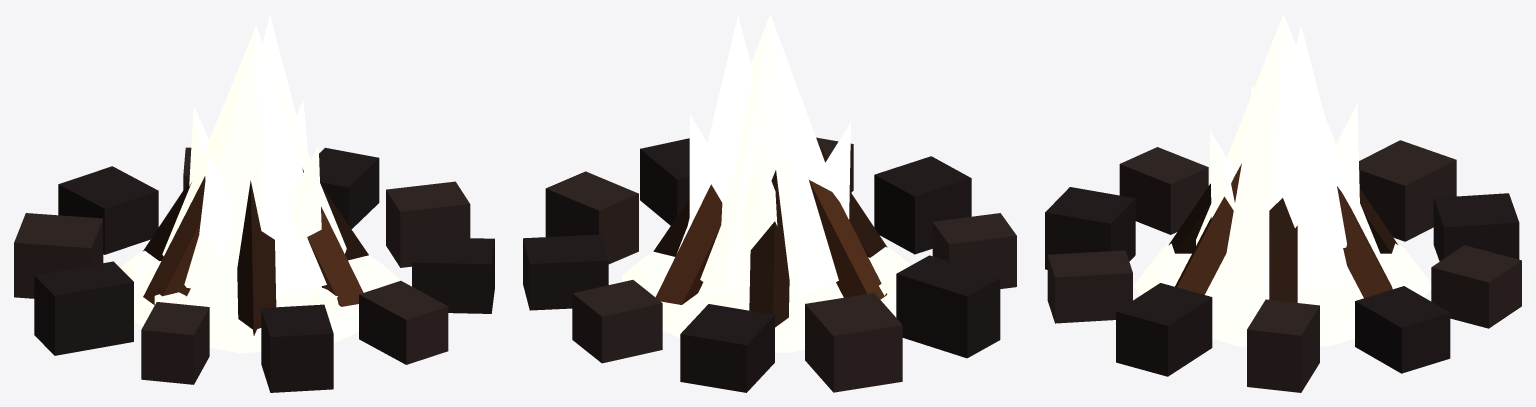
The model's file is campfire_big.glb.
3 renders of one model, left to right at view 1: azimuth 30°, elevation 25°; view 2: azimuth 150°, elevation 25°; view 3: azimuth 270°, elevation 25°, orthographic. The views are drawn at different scales.
Visible parts, largest first — view 1: campfire_big, Flame.007; view 2: campfire_big, Flame.007; view 3: campfire_big, Flame.007.
Boxes of the visible parts, x1,y1,x2,y2 form: campfire_big: (14, 147, 494, 392); Flame.007: (162, 14, 346, 297); campfire_big: (523, 137, 1016, 392); Flame.007: (677, 14, 850, 295); campfire_big: (1045, 140, 1521, 392); Flame.007: (1196, 14, 1380, 293).
Size of the model in its own units: 2.81 by 1.79 by 2.7.
